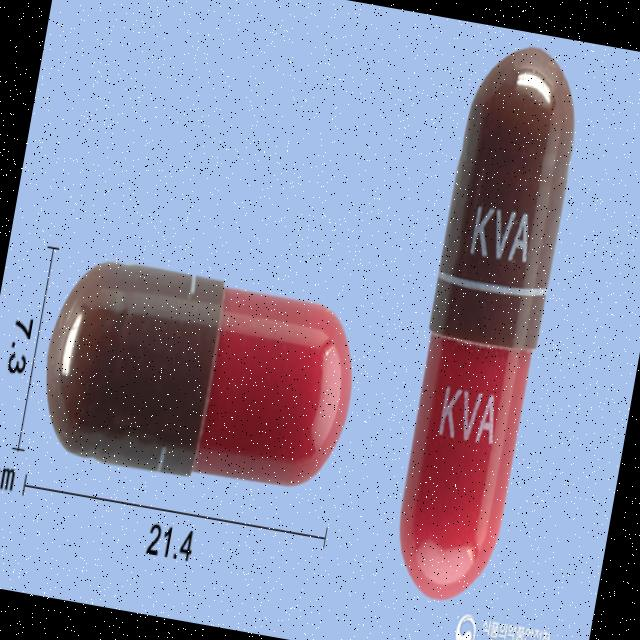Vancozin Cap-250mg: (384, 35, 590, 608)
